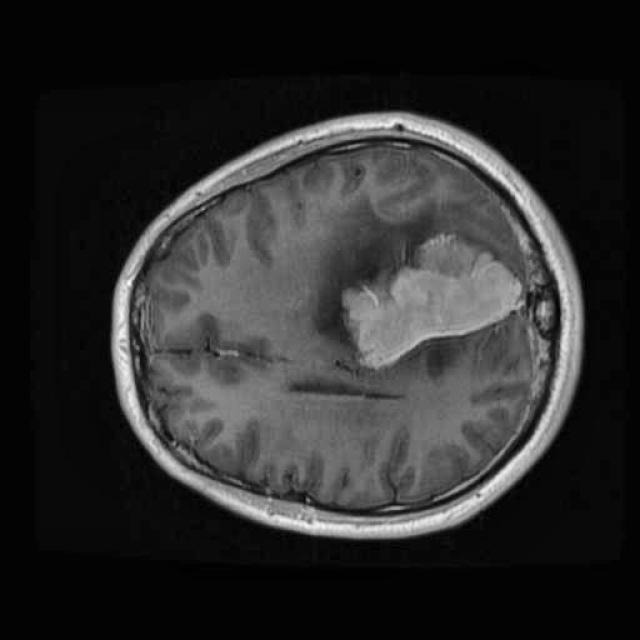Tumor: (329, 219, 535, 380)
